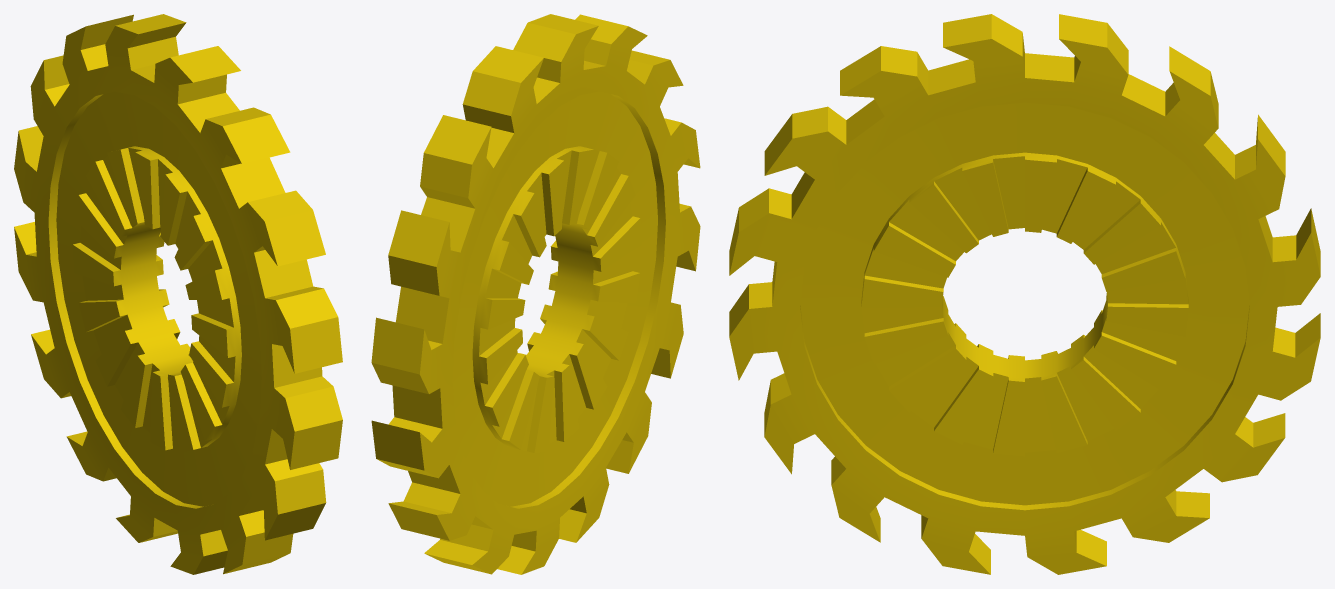
File: grand rouage gold.fbx
3 renders of one model, left to right at view 1: azimuth 30°, elevation 25°; view 2: azimuth 150°, elevation 25°; view 3: azimuth 270°, elevation 25°, orthographic. The views are drawn at different scales.
Visible parts, largest first — view 1: Cylinder.009; view 2: Cylinder.009; view 3: Cylinder.009.
Part boxes in pixels (box(x1,y1,x2,y2)): Cylinder.009: box(14, 14, 342, 574); Cylinder.009: box(371, 14, 700, 574); Cylinder.009: box(729, 14, 1320, 574).
Bounding box in the file's own units: 45.27 × 404 × 404.
